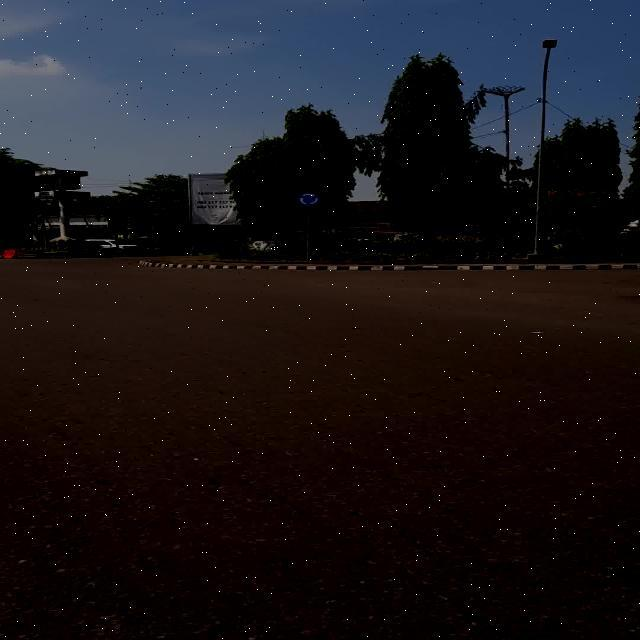Ikuti Bundaran: (296, 192, 321, 207)
